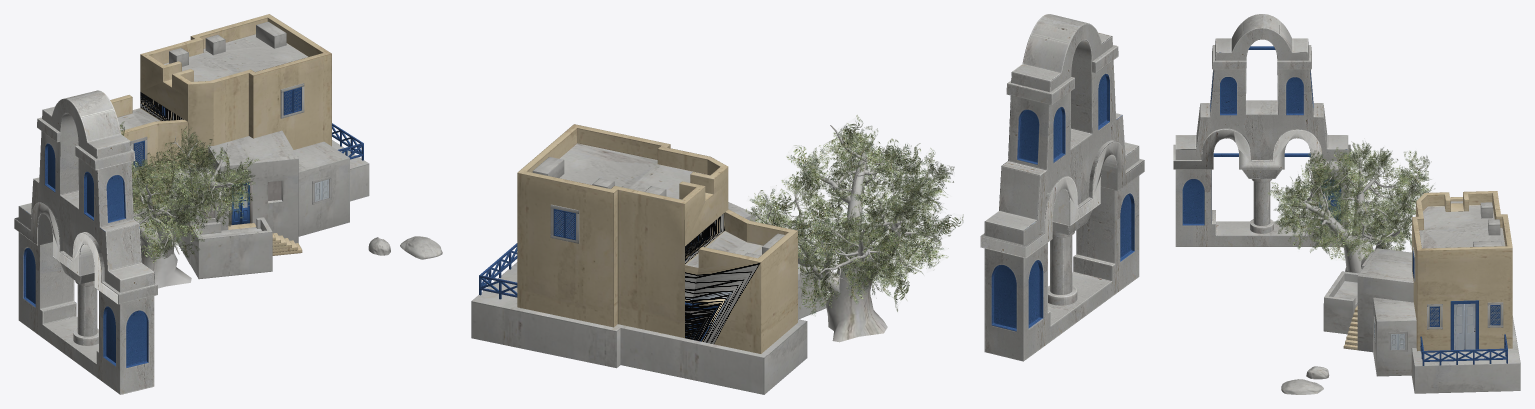
File: website-scene-3.glb
The picture shows the model from 3 angles, left to right: view 1: azimuth 30°, elevation 25°; view 2: azimuth 150°, elevation 25°; view 3: azimuth 270°, elevation 25°; orthographic projection. The views are drawn at different scales.
Parts seen in each view (by area): view 1: Boole_1, Scene1 Model, Object_2, Cube_1_2.001, Path, Cube.001, Cube_2.001, Object_4, Cube_2_2.001, Cylinder.001, Object_3, Roof.001 (+8 smaller); view 2: Scene1 Model, Boole_1, Object_2, Base.001, Object_4, Path, Object_3, Cylinder.001, Cube.001, Fence.001, Roof.001, Window_2_2.001; view 3: Boole_1, Scene1 Model, Object_2, Base.001, Path, Cube_1_2.001, Cube_2.001, Object_4, Cube.001, Object_3, Door_2.001, Cylinder.001 (+7 smaller).
Part boxes in pixels (x1,y1,x2,y2): Boole_1: (18,90,154,394); Scene1 Model: (110,14,331,209); Object_2: (119,121,259,263); Cube_1_2.001: (208,130,298,243); Path: (14,117,157,304); Cube.001: (190,217,272,279); Cube_2.001: (294,141,349,236); Object_4: (133,143,244,288); Cube_2_2.001: (173,167,228,264); Cylinder.001: (73,281,98,345); Object_3: (132,136,233,254); Roof.001: (120,21,286,130); Scene1 Model: (517,124,797,353); Boole_1: (984,14,1139,361); Object_2: (746,115,963,315); Base.001: (471,262,807,394); Object_4: (751,145,931,342); Path: (980,45,1144,258); Object_3: (764,125,940,287); Cylinder.001: (1048,231,1077,305); Cube.001: (798,252,826,319); Fence.001: (479,243,517,299); Roof.001: (532,157,784,258); Window_2_2.001: (550,204,579,243); Boole_1: (1175,14,1348,246); Scene1 Model: (1412,191,1512,351); Object_2: (1268,141,1434,260); Base.001: (1411,316,1520,393); Path: (1173,45,1350,169); Cube_1_2.001: (1357,248,1413,352); Cube_2.001: (1373,297,1416,376); Object_4: (1284,156,1422,273); Cube.001: (1323,271,1359,334); Object_3: (1280,172,1423,252); Door_2.001: (1450,300,1478,350); Cylinder.001: (1250,179,1273,233).
Bounding box in the file's own units: 40.45 × 25.26 × 36.22.
Materials: 5 (5 with a texture image).
